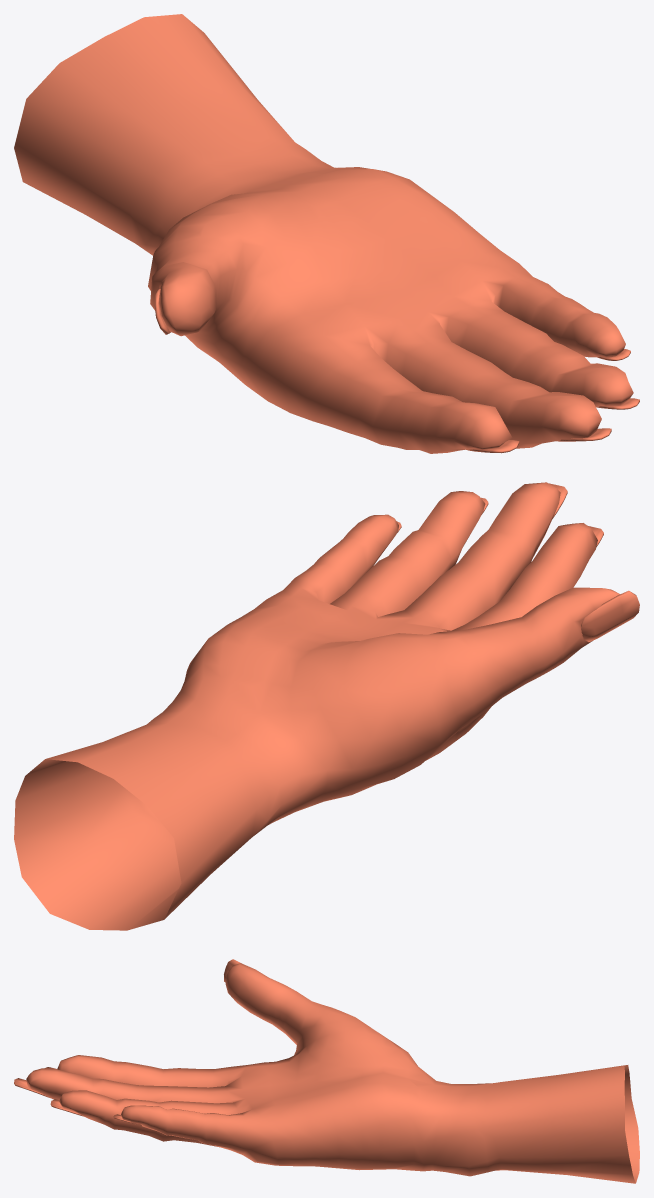
Rendered from 3_3_HandSmoothRighFront.obj.
3 views of the same model, one above another, from view 1: azimuth 30°, elevation 25°; view 2: azimuth 150°, elevation 25°; view 3: azimuth 270°, elevation 25° (orthographic). The views are drawn at different scales.
Visible parts, largest first — view 1: hand_femme_rachel_polySurface1130.003; view 2: hand_femme_rachel_polySurface1130.003; view 3: hand_femme_rachel_polySurface1130.003.
Boxes of the visible parts, box(x1,y1,x2,y2) form: hand_femme_rachel_polySurface1130.003: box(14, 14, 639, 453); hand_femme_rachel_polySurface1130.003: box(14, 482, 639, 930); hand_femme_rachel_polySurface1130.003: box(14, 959, 639, 1183).
Size of the model in its own units: 0.0793 by 0.0399 by 0.1742.
